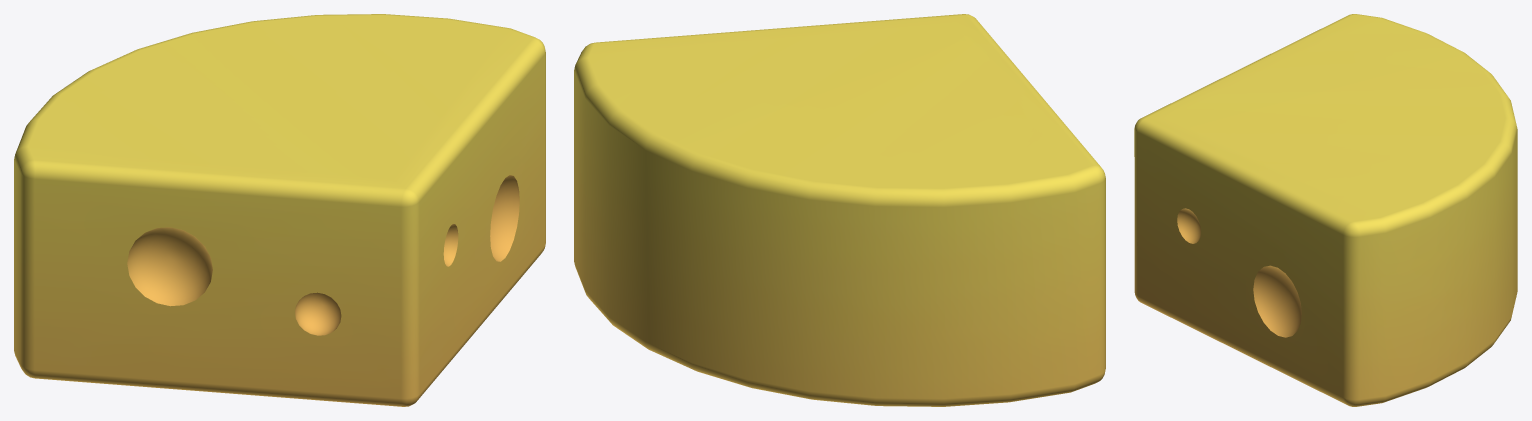
Rendered from cheese.fbx.
The picture shows the model from 3 angles, left to right: view 1: azimuth 30°, elevation 25°; view 2: azimuth 150°, elevation 25°; view 3: azimuth 270°, elevation 25°; orthographic projection. The views are drawn at different scales.
Parts seen in each view (by area): view 1: polySurface14; view 2: polySurface14; view 3: polySurface14.
Boxes of the visible parts, x1,y1,x2,y2 form: polySurface14: [14, 14, 545, 406]; polySurface14: [574, 14, 1105, 406]; polySurface14: [1134, 14, 1517, 406].
Bounding box in the file's own units: 24.78 × 9.87 × 18.55.
